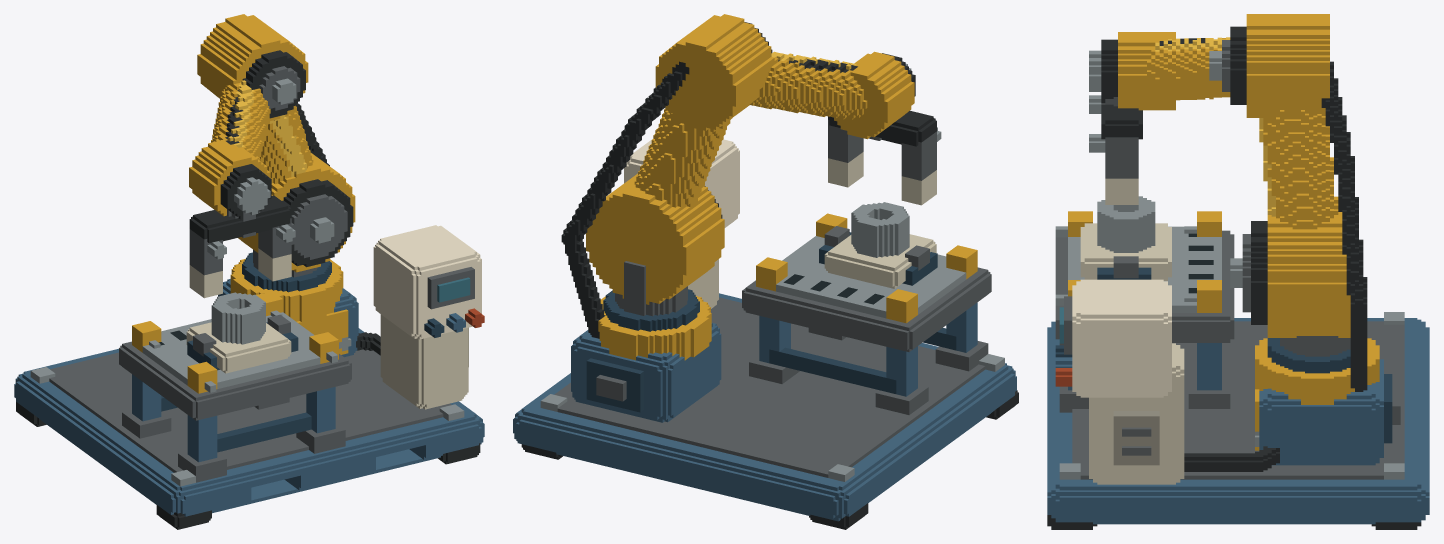
The model's file is robot_workcell.glb.
3 renders of one model, left to right at view 1: azimuth 30°, elevation 25°; view 2: azimuth 150°, elevation 25°; view 3: azimuth 270°, elevation 25°, orthographic. The views are drawn at different scales.
Visible parts, largest first — view 1: robot_workcell; view 2: robot_workcell; view 3: robot_workcell.
Boxes of the visible parts, bbox=[...] form: robot_workcell: bbox=[14, 14, 484, 529]; robot_workcell: bbox=[513, 14, 1018, 529]; robot_workcell: bbox=[1047, 14, 1429, 529].
Size of the model in its own units: 4.16 by 4.68 by 3.68.
